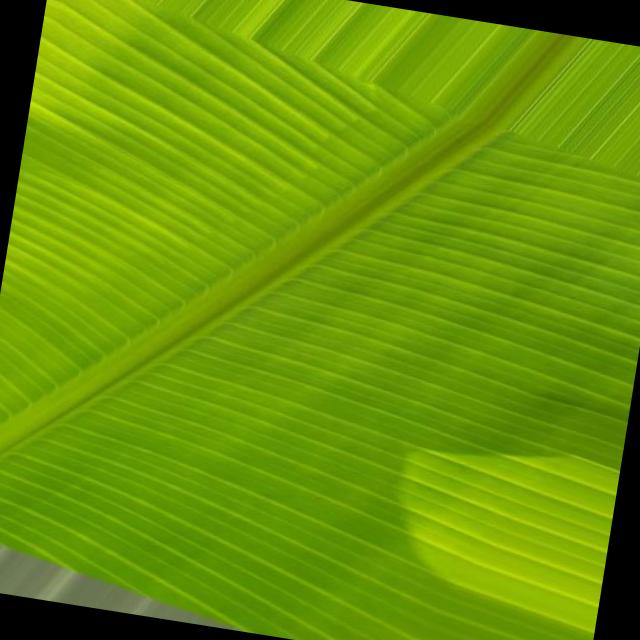Banana_Healthy: (67, 128, 640, 575)
